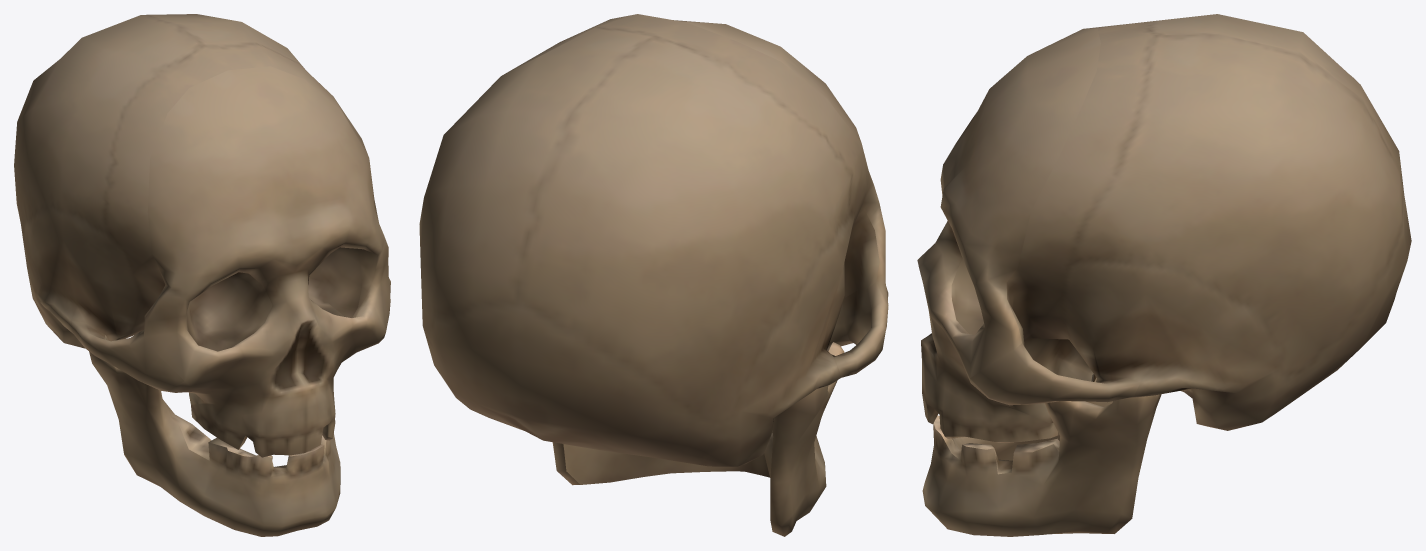
The model's file is Skull.FBX.
3 views of the same model, side by side, from view 1: azimuth 30°, elevation 25°; view 2: azimuth 150°, elevation 25°; view 3: azimuth 270°, elevation 25° (orthographic). The views are drawn at different scales.
Visible parts, largest first — view 1: Skull_LOD0; view 2: Skull_LOD0; view 3: Skull_LOD0.
Part boxes in pixels (x1,y1,x2,y2): Skull_LOD0: [14, 14, 390, 536]; Skull_LOD0: [419, 14, 888, 536]; Skull_LOD0: [917, 14, 1411, 536].
Size of what is drawn, in the model's own units: 0.1533 by 0.2113 by 0.1976.
